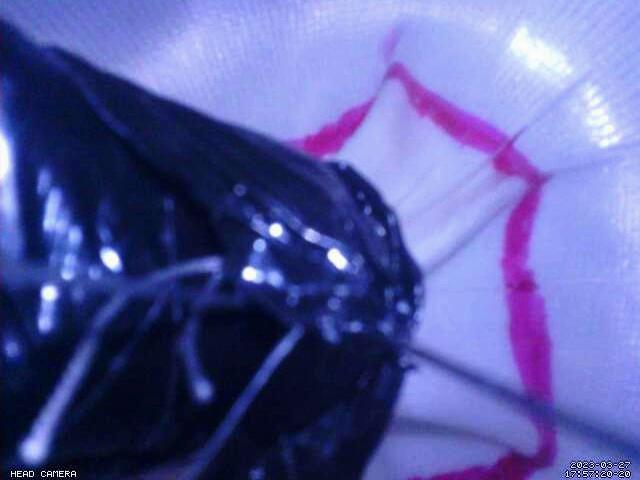red-circle: (280, 60, 559, 480)
